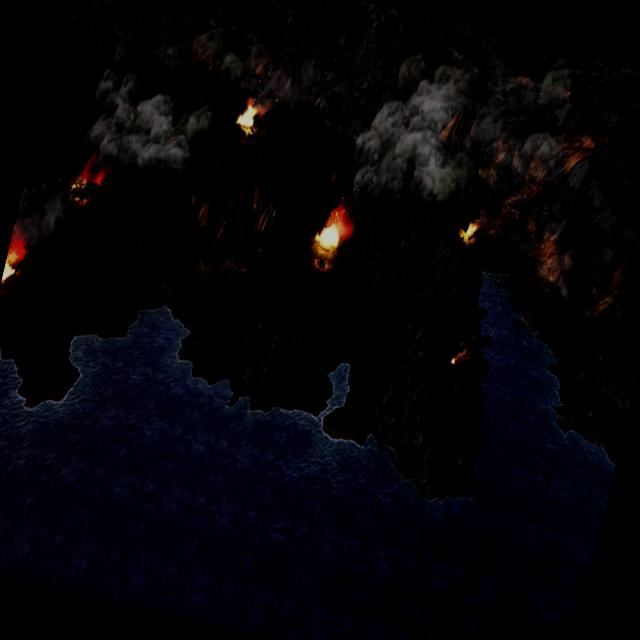fire: (313, 206, 355, 256), (70, 157, 110, 200), (0, 238, 27, 290), (236, 98, 264, 133), (448, 344, 472, 371), (459, 220, 480, 245)
smoke: (340, 44, 496, 229), (78, 62, 218, 188), (10, 170, 77, 253), (540, 54, 578, 89)
